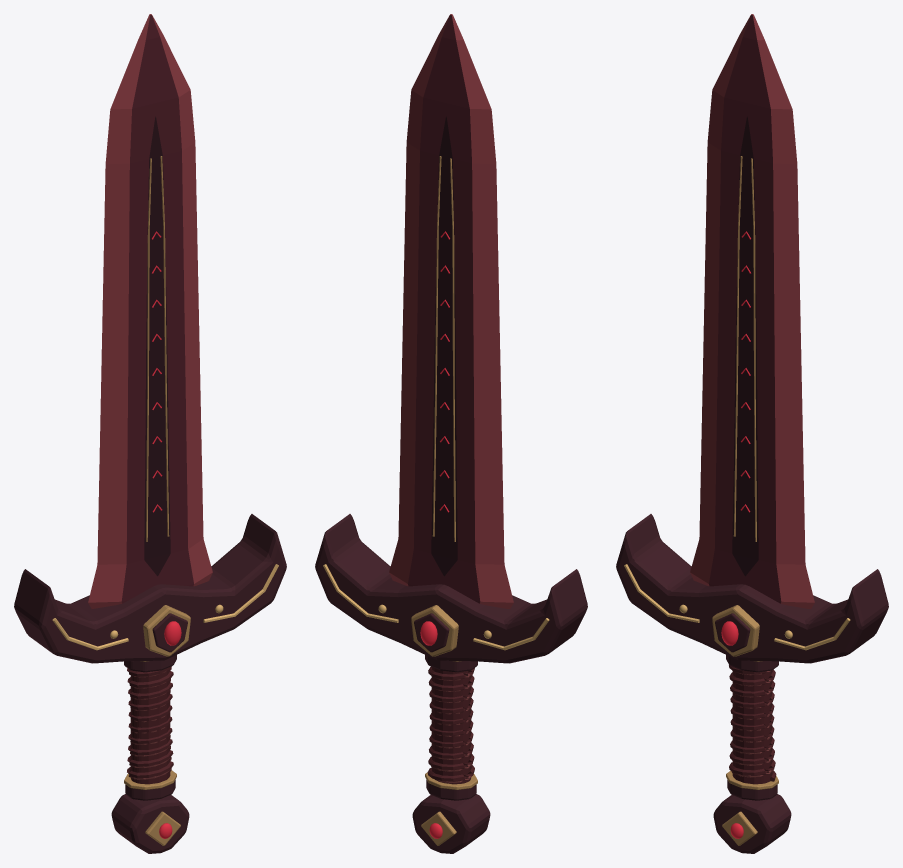
Rendered from slayer-greatsword.glb.
3 renders of one model, left to right at view 1: azimuth 30°, elevation 25°; view 2: azimuth 150°, elevation 25°; view 3: azimuth 330°, elevation 25°, orthographic.
Parts seen in each view (by area): view 1: SW_SLAYER_GREATSWORD_MESH; view 2: SW_SLAYER_GREATSWORD_MESH; view 3: SW_SLAYER_GREATSWORD_MESH.
Boxes of the visible parts, left/top/right/bottom form: SW_SLAYER_GREATSWORD_MESH: left=14, top=14, right=286, bottom=853; SW_SLAYER_GREATSWORD_MESH: left=315, top=14, right=587, bottom=853; SW_SLAYER_GREATSWORD_MESH: left=616, top=14, right=888, bottom=853.
Size of the model in its own units: 0.5774 by 1.86 by 0.208.
